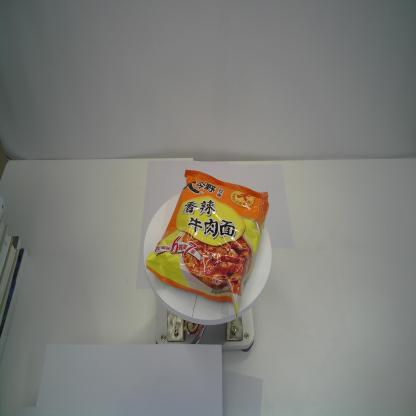Instant Noodles: (146, 170, 270, 317)
